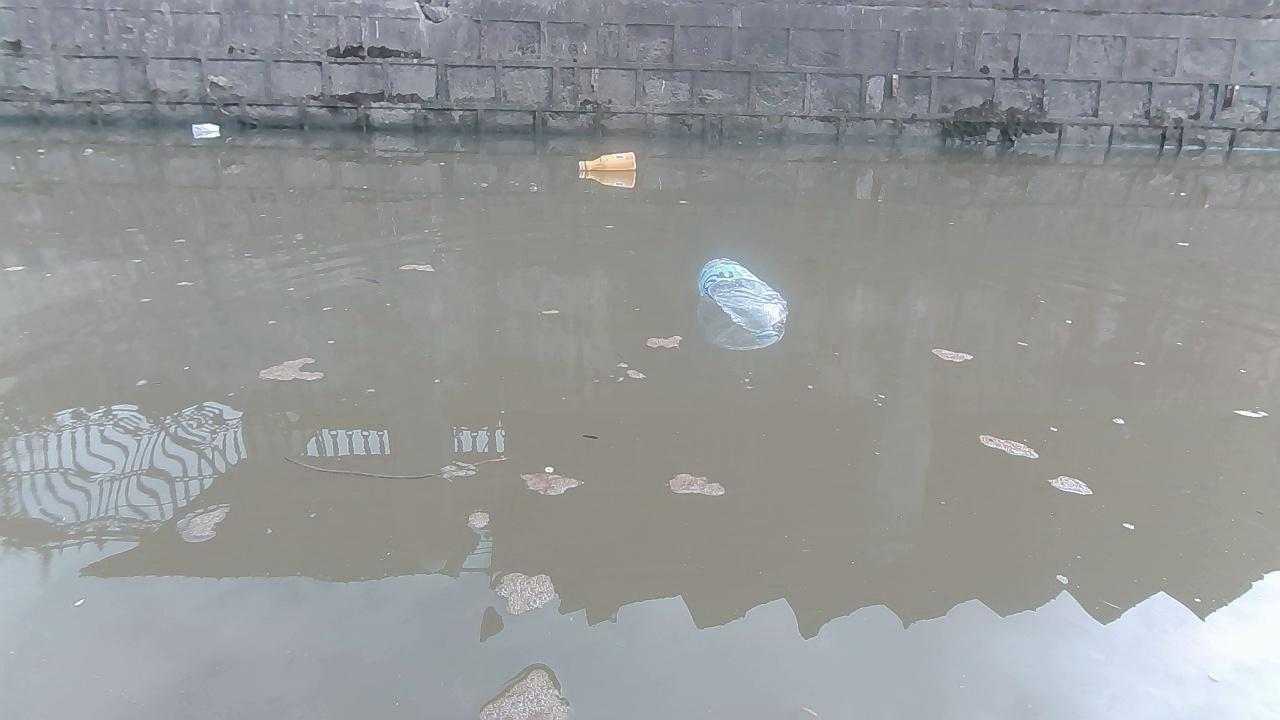Plastic: (697, 255, 791, 340), (577, 150, 638, 173), (191, 122, 221, 136)
